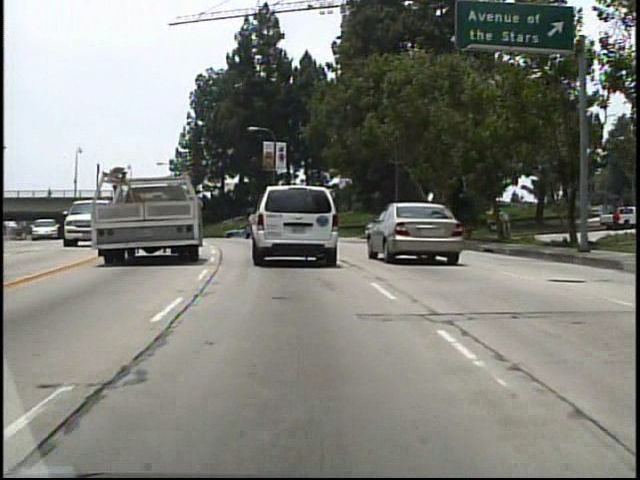person: (43, 183, 54, 203)
